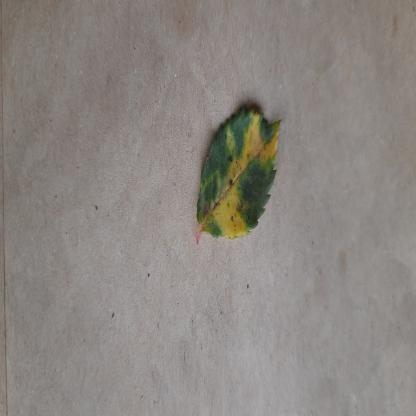black-spot: (198, 107, 284, 239)
